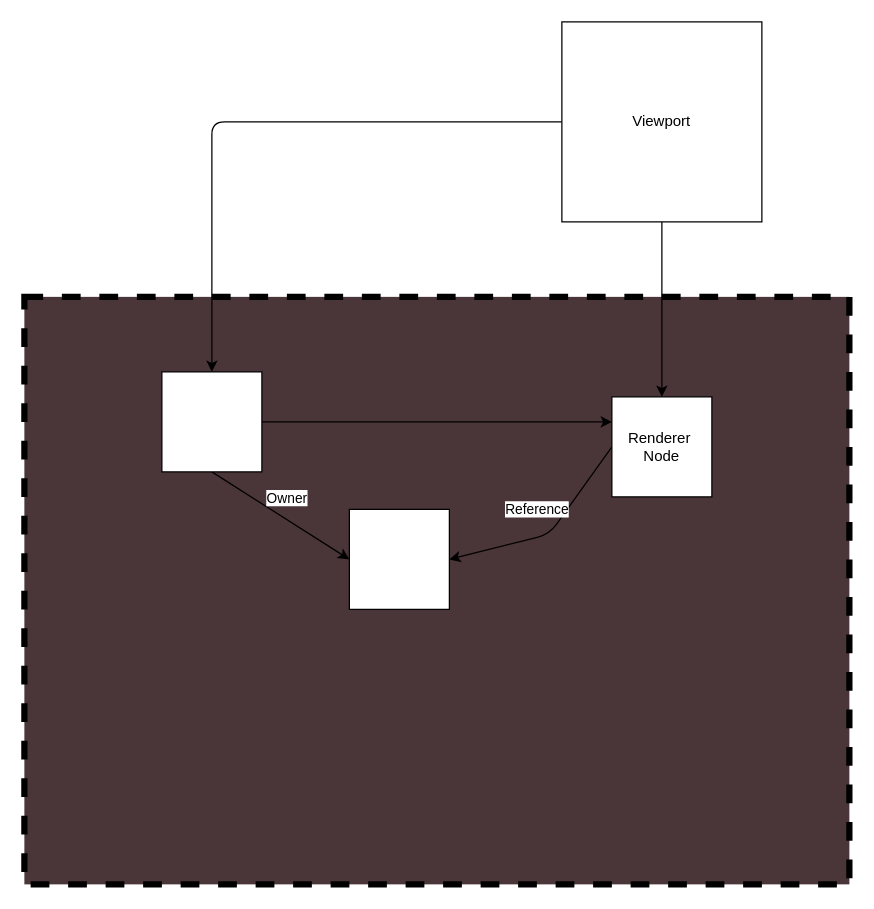
The diagram is 874 pixels wide and 909 high, and some of its shapes have lost their labels. Each missing label, with the centre of its shape:
"Camera" goes at [398,558].
"Camera Node (Function Set)" goes at [211,421].
